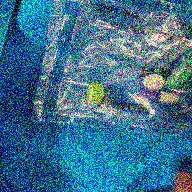러키펜정: (143, 74, 166, 91)
씨엠지세파클러캡슐: (135, 89, 180, 104)
에르도캡슐: (166, 57, 192, 87)
휴티렌정: (87, 82, 105, 105)
